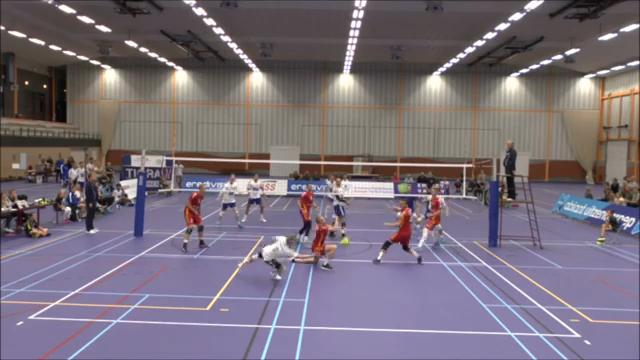Dig: (232, 230, 318, 285)
Player: (373, 199, 421, 263), (295, 214, 336, 269), (418, 186, 444, 248), (182, 184, 206, 251), (217, 174, 242, 227), (297, 184, 317, 242), (242, 174, 265, 221), (333, 178, 347, 238), (323, 175, 335, 210)
ball: (339, 234, 350, 247)
